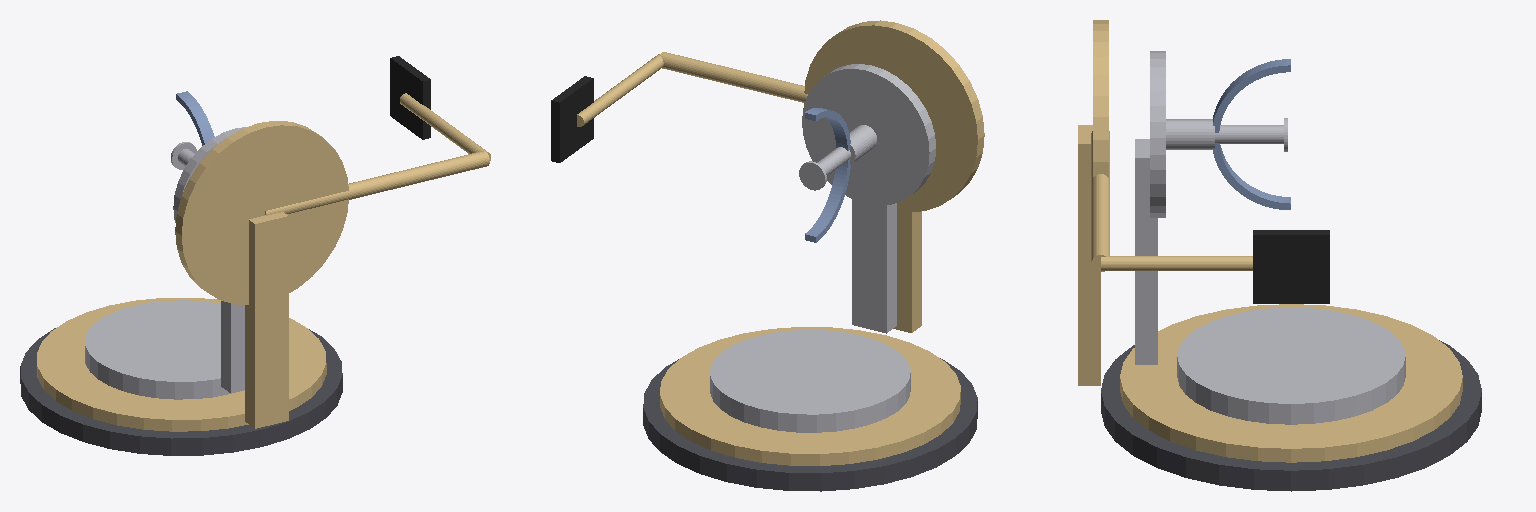
robot.urdf — diffractometer_4s2d:
<?xml version="1.0"?>
<robot name="diffractometer_4s2d">
  <link name="base">
    <visual>
      <origin xyz="0.0000 0.0000 -0.7700" rpy="0.0000 0.0000 0.0000"/>
      <geometry><cylinder radius="0.5000" length="0.0600"/></geometry>
      <material name=""><color rgba="0.35 0.35 0.38 1"/></material>
    </visual>
  </link>
  <link name="mu">
    <visual>
      <origin xyz="0.0000 0.0000 -0.6700" rpy="0.0000 0.0000 0.0000"/>
      <geometry><cylinder radius="0.3000" length="0.0600"/></geometry>
      <material name=""><color rgba="0.75 0.75 0.78 1"/></material>
    </visual>
    <visual>
      <origin xyz="0.0000 -0.3800 -0.3400" rpy="0.0000 0.0000 0.0000"/>
      <geometry><box size="0.1200 0.0600 0.6000"/></geometry>
      <material name=""><color rgba="0.75 0.75 0.78 1"/></material>
    </visual>
  </link>
  <link name="eta">
    <visual>
      <origin xyz="0.0000 -0.3500 0.0000" rpy="1.5708 0.0000 0.0000"/>
      <geometry><cylinder radius="0.2200" length="0.0400"/></geometry>
      <material name=""><color rgba="0.75 0.75 0.78 1"/></material>
    </visual>
    <visual>
      <origin xyz="0.0000 -0.2750 0.0000" rpy="1.5708 0.0000 0.0000"/>
      <geometry><cylinder radius="0.0400" length="0.1500"/></geometry>
      <material name=""><color rgba="0.75 0.75 0.78 1"/></material>
    </visual>
  </link>
  <link name="chi">
    <visual>
      <origin xyz="0.0000 0.0000 0.0000" rpy="0.0000 0.0000 0.0000"/>
      <geometry><mesh filename="chi_arc.stl" scale="1 1 1"/></geometry>
      <material name=""><color rgba="0.55 0.62 0.75 1"/></material>
    </visual>
  </link>
  <link name="phi">
    <visual>
      <origin xyz="0.0000 -0.1100 0.0000" rpy="1.5708 0.0000 0.0000"/>
      <geometry><cylinder radius="0.0250" length="0.1800"/></geometry>
      <material name=""><color rgba="0.75 0.75 0.78 1"/></material>
    </visual>
    <visual>
      <origin xyz="0.0000 -0.0150 0.0000" rpy="1.5708 0.0000 0.0000"/>
      <geometry><cylinder radius="0.0450" length="0.0100"/></geometry>
      <material name=""><color rgba="0.75 0.75 0.78 1"/></material>
    </visual>
  </link>
  <link name="nu">
    <visual>
      <origin xyz="0.0000 0.0000 -0.7200" rpy="0.0000 0.0000 0.0000"/>
      <geometry><cylinder radius="0.4500" length="0.0400"/></geometry>
      <material name=""><color rgba="0.85 0.75 0.55 1"/></material>
    </visual>
    <visual>
      <origin xyz="0.0000 -0.5300 -0.3500" rpy="0.0000 0.0000 0.0000"/>
      <geometry><box size="0.1200 0.0600 0.7000"/></geometry>
      <material name=""><color rgba="0.85 0.75 0.55 1"/></material>
    </visual>
  </link>
  <link name="delta">
    <visual>
      <origin xyz="0.0000 -0.5000 0.0000" rpy="1.5708 0.0000 0.0000"/>
      <geometry><cylinder radius="0.3000" length="0.0400"/></geometry>
      <material name=""><color rgba="0.85 0.75 0.55 1"/></material>
    </visual>
    <visual>
      <origin xyz="0.4000 -0.5000 0.0000" rpy="0.0000 1.5708 0.0000"/>
      <geometry><cylinder radius="0.0250" length="0.8000"/></geometry>
      <material name=""><color rgba="0.85 0.75 0.55 1"/></material>
    </visual>
    <visual>
      <origin xyz="0.8000 -0.2500 0.0000" rpy="1.5708 0.0000 0.0000"/>
      <geometry><cylinder radius="0.0200" length="0.5000"/></geometry>
      <material name=""><color rgba="0.85 0.75 0.55 1"/></material>
    </visual>
    <visual>
      <origin xyz="0.8200 0.0000 0.0000" rpy="0.0000 0.0000 0.0000"/>
      <geometry><box size="0.0300 0.2000 0.2000"/></geometry>
      <material name=""><color rgba="0.2 0.2 0.2 1"/></material>
    </visual>
  </link>
  <joint name="mu" type="revolute">
    <parent link="base"/>
    <child link="mu"/>
    <origin xyz="0 0 0" rpy="0 0 0"/>
    <axis xyz="0 0 1"/>
    <limit lower="-6.2832" upper="6.2832" effort="1" velocity="1"/>
  </joint>
  <joint name="eta" type="revolute">
    <parent link="mu"/>
    <child link="eta"/>
    <origin xyz="0 0 0" rpy="0 0 0"/>
    <axis xyz="0 -1 0"/>
    <limit lower="-6.2832" upper="6.2832" effort="1" velocity="1"/>
  </joint>
  <joint name="chi" type="revolute">
    <parent link="eta"/>
    <child link="chi"/>
    <origin xyz="0 0 0" rpy="0 0 0"/>
    <axis xyz="1 0 0"/>
    <limit lower="-6.2832" upper="6.2832" effort="1" velocity="1"/>
  </joint>
  <joint name="phi" type="revolute">
    <parent link="chi"/>
    <child link="phi"/>
    <origin xyz="0 0 0" rpy="0 0 0"/>
    <axis xyz="0 -1 0"/>
    <limit lower="-6.2832" upper="6.2832" effort="1" velocity="1"/>
  </joint>
  <joint name="nu" type="revolute">
    <parent link="base"/>
    <child link="nu"/>
    <origin xyz="0 0 0" rpy="0 0 0"/>
    <axis xyz="0 0 1"/>
    <limit lower="-6.2832" upper="6.2832" effort="1" velocity="1"/>
  </joint>
  <joint name="delta" type="revolute">
    <parent link="nu"/>
    <child link="delta"/>
    <origin xyz="0 0 0" rpy="0 0 0"/>
    <axis xyz="0 -1 0"/>
    <limit lower="-6.2832" upper="6.2832" effort="1" velocity="1"/>
  </joint>
</robot>

--- What the picture shows (computed from the rendered views, not written in the file) ---
3 views of the same robot in one strip: view 1: azimuth 30°, elevation 25°; view 2: azimuth 150°, elevation 25°; view 3: azimuth 270°, elevation 25° (orthographic).
Robot: diffractometer_4s2d — 7 links, 6 joints (6 revolute); root link base; default pose: all joints at 0.
Visible links, largest first — view 1: delta, nu, mu, base, eta, chi; view 2: mu, nu, delta, eta, base, chi, phi; view 3: mu, nu, base, delta, eta, chi, phi.
Link boxes in pixels (x1,y1,x2,y2): delta: [175, 56, 490, 304]; nu: [37, 212, 326, 431]; mu: [85, 300, 244, 399]; base: [20, 328, 342, 455]; eta: [173, 127, 245, 222]; chi: [176, 91, 214, 145]; mu: [710, 199, 910, 432]; nu: [660, 211, 960, 465]; delta: [551, 20, 984, 211]; eta: [802, 64, 935, 205]; base: [643, 358, 977, 491]; chi: [805, 108, 850, 242]; phi: [799, 147, 850, 190]; mu: [1135, 139, 1405, 424]; nu: [1078, 125, 1462, 462]; base: [1101, 340, 1481, 491]; delta: [1091, 20, 1329, 303]; eta: [1150, 51, 1214, 217]; chi: [1213, 59, 1290, 209]; phi: [1215, 118, 1287, 151].
Bounding box of the posed robot: 1.33 × 1.06 × 1.1 m (x, y, z).
Meshes: 1 distinct files referenced, 1 mesh visuals loaded (1 binary STL).
